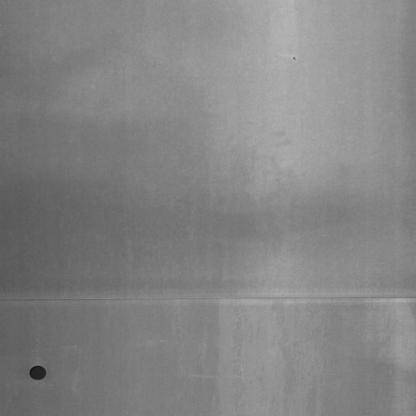oil_spot: (291, 50, 299, 67)
punching_hole: (26, 362, 50, 384)
welding_line: (1, 284, 414, 314)
